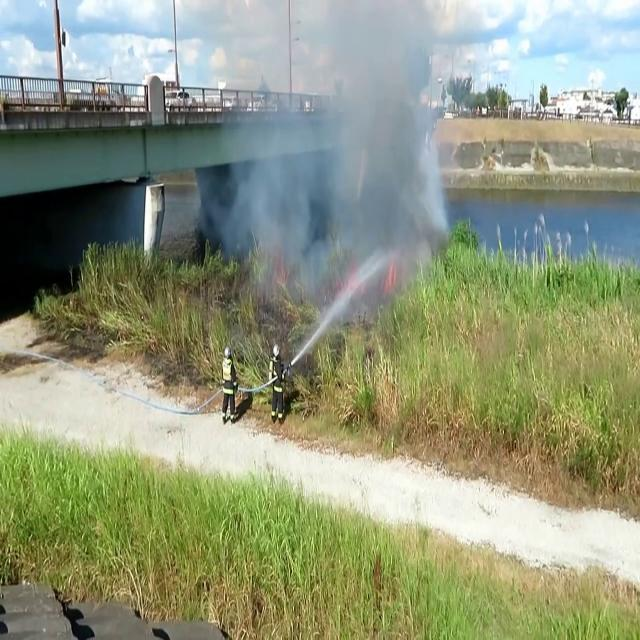Smoke: (207, 1, 454, 317)
